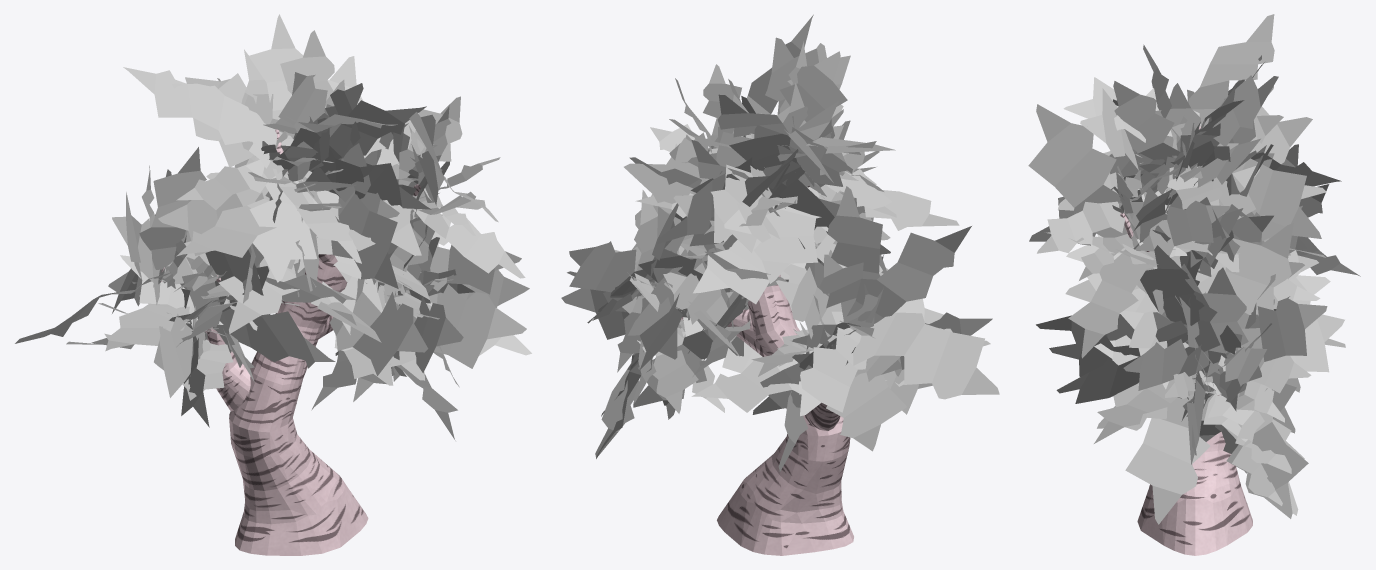
The model's file is Tree 3.fbx.
3 renders of one model, left to right at view 1: azimuth 30°, elevation 25°; view 2: azimuth 150°, elevation 25°; view 3: azimuth 270°, elevation 25°, orthographic. The views are drawn at different scales.
Parts seen in each view (by area): view 1: Tree 3, Tree 3|Branch|Dupli|85, Tree 3|Branch|Dupli|138, Tree 3|Branch|Dupli|144, Tree 3|Branch|Dupli|82, Tree 3|Branch|Dupli|229, Tree 3|Branch|Dupli|64, Tree 3|Branch|Dupli|256, Tree 3|Branch|Dupli|74, Tree 3|Branch|Dupli|68, Tree 3|Branch|Dupli|17, Tree 3|Branch|Dupli|46 (+39 smaller); view 2: Tree 3, Tree 3|Branch|Dupli|251, Tree 3|Branch|Dupli|250, Tree 3|Branch|Dupli|257, Tree 3|Branch|Dupli|256, Tree 3|Branch|Dupli|227, Tree 3|Branch|Dupli|105, Tree 3|Branch|Dupli|184, Tree 3|Branch|Dupli|58, Tree 3|Branch|Dupli|261, Tree 3|Branch|Dupli|124, Tree 3|Branch|Dupli|188 (+48 smaller); view 3: Tree 3, Tree 3|Branch|Dupli|23, Tree 3|Branch|Dupli|141, Tree 3|Branch|Dupli|176, Tree 3|Branch|Dupli|85, Tree 3|Branch|Dupli|17, Tree 3|Branch|Dupli|123, Tree 3|Branch|Dupli|184, Tree 3|Branch|Dupli|109, Tree 3|Branch|Dupli|217, Tree 3|Branch|Dupli|21, Tree 3|Branch|Dupli|216 (+51 smaller).
Part boxes in pixels (x1,y1,x2,y2): Tree 3: (161, 129, 423, 555); Tree 3|Branch|Dupli|85: (123, 67, 276, 145); Tree 3|Branch|Dupli|138: (329, 278, 428, 375); Tree 3|Branch|Dupli|144: (383, 284, 526, 368); Tree 3|Branch|Dupli|82: (246, 159, 316, 282); Tree 3|Branch|Dupli|229: (213, 295, 335, 368); Tree 3|Branch|Dupli|64: (331, 191, 398, 288); Tree 3|Branch|Dupli|256: (139, 147, 206, 269); Tree 3|Branch|Dupli|74: (272, 100, 426, 170); Tree 3|Branch|Dupli|68: (176, 186, 276, 257); Tree 3|Branch|Dupli|17: (413, 209, 525, 278); Tree 3|Branch|Dupli|46: (218, 236, 332, 333); Tree 3: (681, 185, 853, 555); Tree 3|Branch|Dupli|251: (852, 312, 999, 399); Tree 3|Branch|Dupli|250: (843, 226, 971, 323); Tree 3|Branch|Dupli|257: (800, 311, 866, 416); Tree 3|Branch|Dupli|256: (827, 186, 883, 322); Tree 3|Branch|Dupli|227: (826, 372, 906, 451); Tree 3|Branch|Dupli|105: (753, 187, 821, 283); Tree 3|Branch|Dupli|184: (569, 241, 655, 297); Tree 3|Branch|Dupli|58: (693, 239, 814, 304); Tree 3|Branch|Dupli|261: (691, 359, 801, 412); Tree 3|Branch|Dupli|124: (777, 51, 847, 127); Tree 3|Branch|Dupli|188: (627, 283, 682, 369); Tree 3: (1120, 126, 1252, 555); Tree 3|Branch|Dupli|23: (1028, 104, 1143, 237); Tree 3|Branch|Dupli|141: (1125, 398, 1210, 524); Tree 3|Branch|Dupli|176: (1225, 223, 1293, 328); Tree 3|Branch|Dupli|85: (1188, 14, 1274, 127); Tree 3|Branch|Dupli|17: (1068, 244, 1156, 358); Tree 3|Branch|Dupli|123: (1202, 143, 1321, 238); Tree 3|Branch|Dupli|184: (1235, 298, 1327, 368); Tree 3|Branch|Dupli|109: (1113, 81, 1180, 173); Tree 3|Branch|Dupli|217: (1201, 393, 1308, 518); Tree 3|Branch|Dupli|21: (1130, 200, 1230, 255); Tree 3|Branch|Dupli|216: (1179, 267, 1248, 395).
Bounding box in the file's own units: 544 × 520 × 337.
